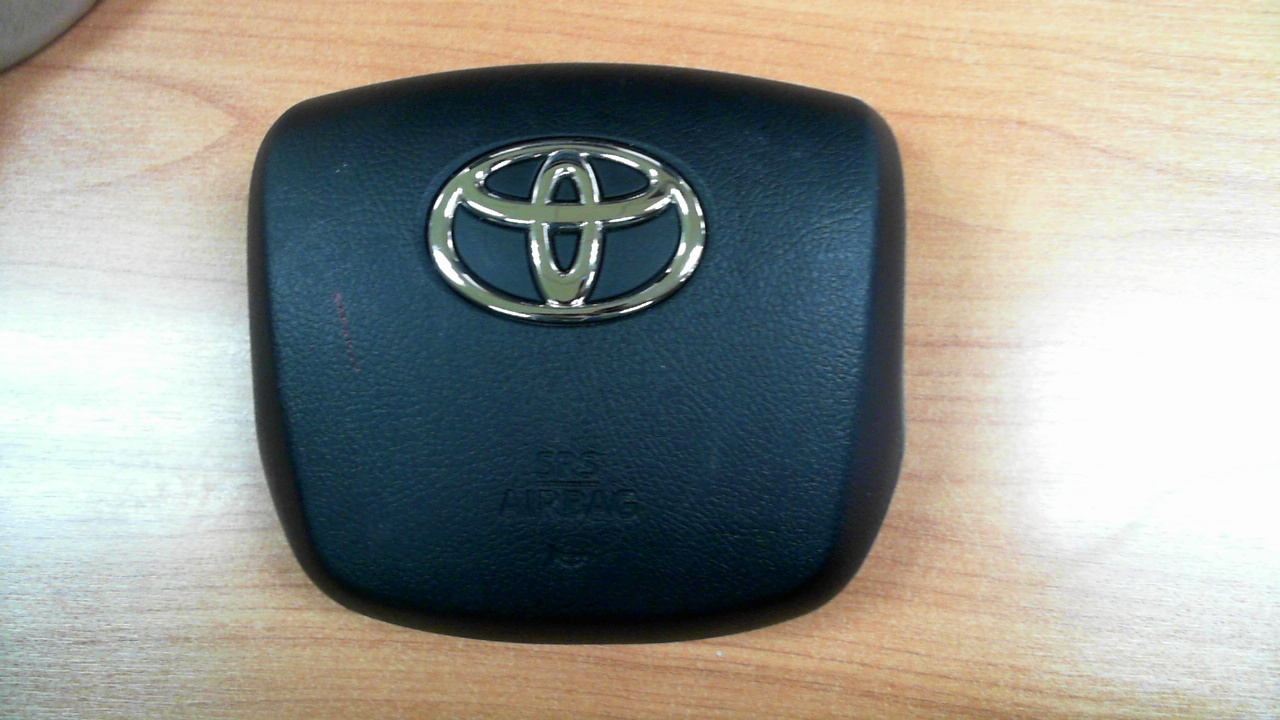Airbag: (245, 61, 907, 647)
Toyota: (427, 139, 707, 325)
